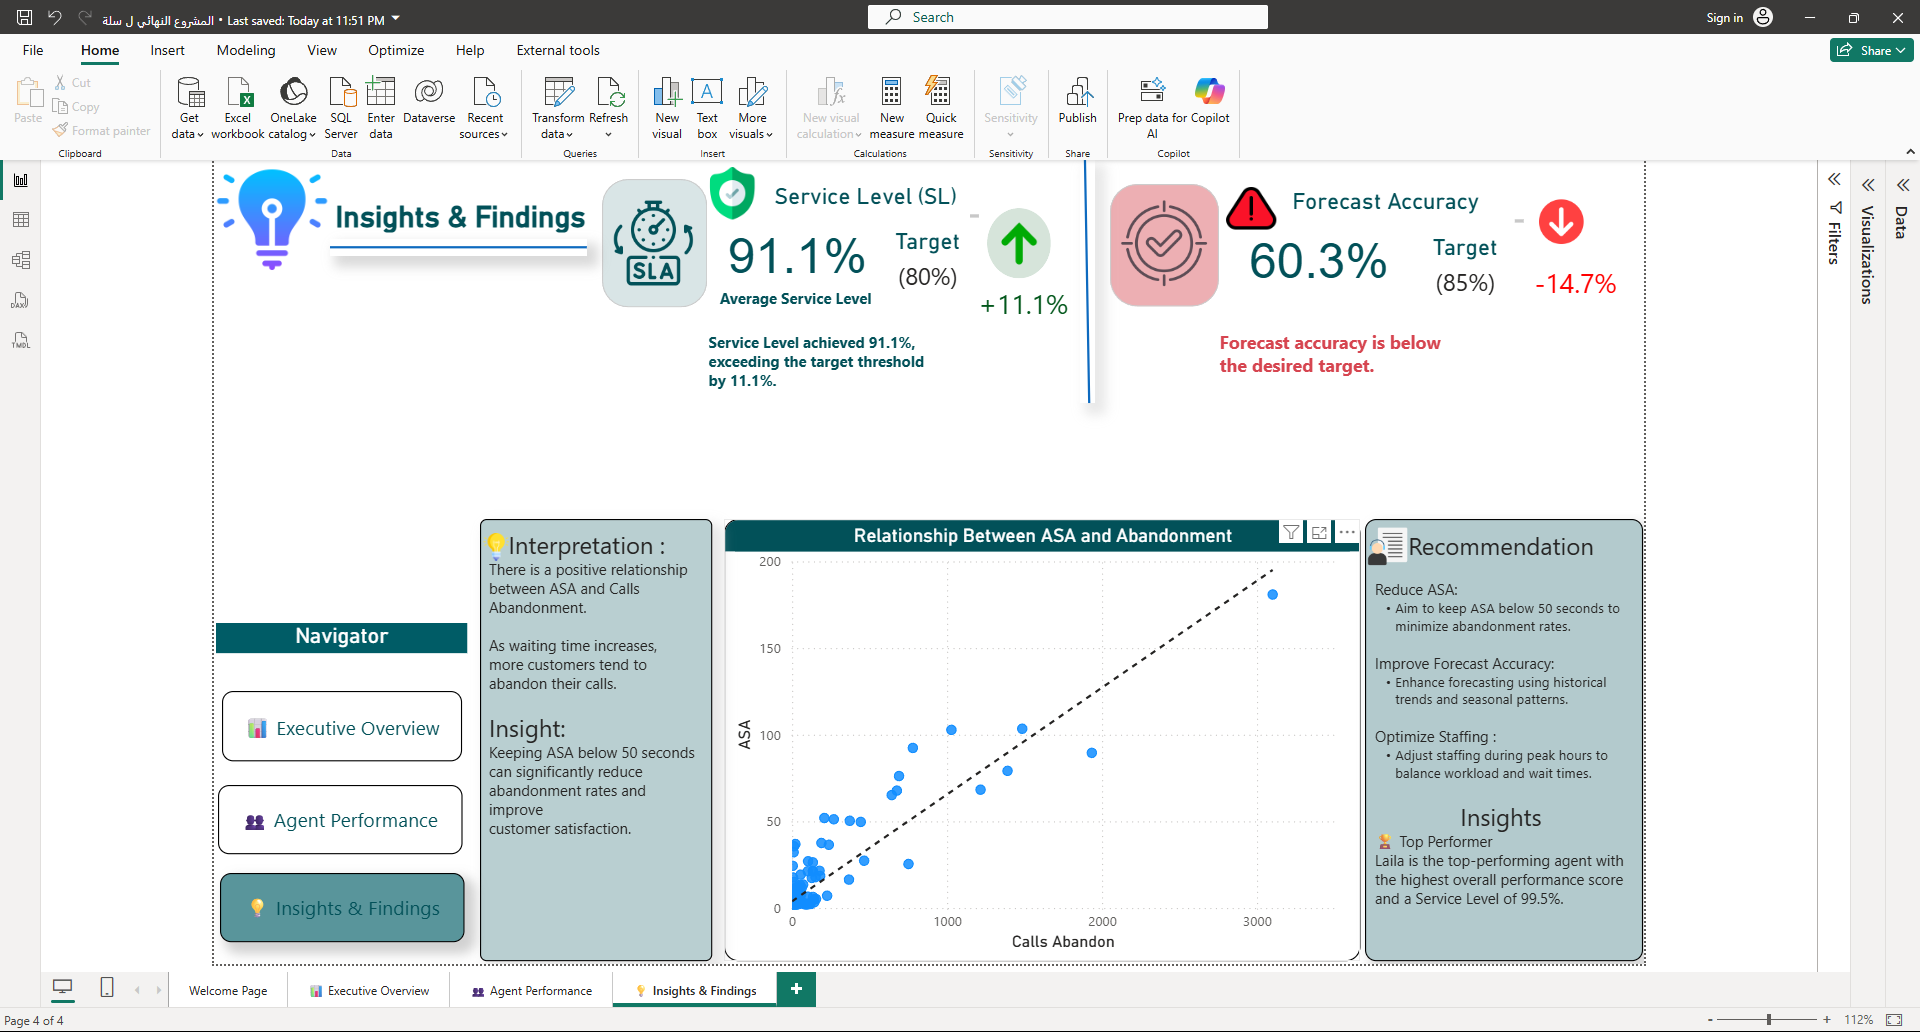

This screenshot's page, from the dashboard's own definition file:
{"tool":"powerbi","page":{"name":"💡 Insights & Findings","canvas":[1280,720],"ordinal":3},"visuals":[{"type":"image","box":[0,0,103.6,106.8],"z":0},{"type":"group","id":"g1","title":"Group 5","box":[424,6.3,351.7,145.6],"z":0,"group":"g4"},{"type":"shape","box":[347.7,17.1,94.2,114.9],"z":0,"group":"g5"},{"type":"shape","box":[802.2,21.7,97.6,109.7],"z":0,"group":"g7"},{"type":"group","id":"g2","title":"Group 6","box":[347.7,5.3,94.2,138.7],"z":1000,"group":"g4"},{"type":"group","id":"g3","title":"Group 5","box":[883.9,20.2,293.7,112.3],"z":1000,"group":"g13"},{"type":"textbox","title":" Insights & Findings","box":[103.6,34.9,267.4,34.9],"z":1000},{"type":"actionButton","title":"Navigator","box":[2.1,414.3,225.1,293.8],"z":1000,"group":"g11"},{"type":"group","id":"g4","title":"Group 7","box":[347.7,5.3,428.1,213.5],"z":2000},{"type":"image","box":[356.2,5.3,76.3,138.7],"z":2000,"group":"g2"},{"type":"image","box":[811,8.5,78.8,132.3],"z":2000,"group":"g9"},{"type":"textbox","box":[438.2,149.3,238.7,70.3],"z":2000,"group":"g4"},{"type":"shape","box":[775.8,0,12.7,217.7],"z":3000},{"type":"actionButton","box":[5.4,637.9,218.6,61.9],"z":3000,"group":"g11"},{"type":"image","box":[424,6.3,81.1,46.6],"z":4000,"group":"g1"},{"type":"image","box":[883.9,20.2,90,47.4],"z":4000,"group":"g3"},{"type":"textbox","box":[895.6,147.6,248,56.4],"z":4000,"group":"g14"},{"type":"scatterChart","title":"Relationship Between ASA and Abandonment","fields":{"X":["Sallah.Calls Abandon"],"Y":["Sallah.ASA"]},"box":[456.6,321.3,569.7,396.4],"z":4000},{"type":"group","id":"g5","title":"Group 1","box":[347.7,17.1,94.2,114.9],"z":5000,"group":"g2"},{"type":"textbox","title":"Service Level  (SL)","box":[497.2,20.4,192.9,35.7],"z":5000,"group":"g6"},{"type":"textbox","title":"Forecast Accuracy","box":[960.9,25.5,216.8,36.2],"z":5000,"group":"g8"},{"type":"textbox","box":[1030.6,321.3,249.4,396.4],"z":5000},{"type":"actionButton","box":[7.1,475,215.3,63],"z":5000,"group":"g11"},{"type":"group","id":"g6","title":"Group 4","box":[446,20.4,329.7,131.5],"z":6000,"group":"g1"},{"type":"group","id":"g7","title":"Group 1","box":[802.2,21.7,97.6,109.7],"z":6000,"group":"g10"},{"type":"group","id":"g8","title":"Group 4","box":[905.3,25.5,272.3,107],"z":6000,"group":"g3"},{"type":"textbox","title":"91.1% ","box":[446,60.7,153.4,77.7],"z":6000,"group":"g6"},{"type":"textbox","title":"60.3%","box":[905.3,65.6,168.7,56.9],"z":6000,"group":"g8"},{"type":"image","box":[1032.7,321.3,37,49.7],"z":6000},{"type":"textbox","title":"Target ","box":[599.4,60.7,80.2,65],"z":7000,"group":"g6"},{"type":"textbox","title":"Target ","box":[1075.7,66.4,90.1,66.1],"z":7000,"group":"g8"},{"type":"textbox","box":[237.8,321.7,208.2,396.4],"z":7000},{"type":"group","id":"g9","title":"Group 11","box":[802.2,8.5,472.5,195.5],"z":8000},{"type":"image","box":[679.6,50,82,48.5],"z":8000,"group":"g12"},{"type":"image","box":[1186.4,32.8,39.9,46.7],"z":9000,"group":"g13"},{"type":"shape","box":[691.9,43.2,57.4,63.1],"z":9000,"group":"g12"},{"type":"shape","box":[103.6,70.8,230.4,14.8],"z":9000},{"type":"group","id":"g10","title":"Group 10","box":[802.2,20.2,472.7,183.8],"z":10000,"group":"g9"},{"type":"textbox","box":[1177.6,88.3,97.3,45.7],"z":10000,"group":"g13"},{"type":"textbox","box":[679.6,106.3,96.1,45.6],"z":10000,"group":"g6"},{"type":"group","id":"g11","title":"Group 2","box":[2.1,414.3,225.1,293.8],"z":10000},{"type":"image","box":[237.8,334,29.6,25.4],"z":11000},{"type":"group","id":"g12","title":"Group 3","box":[679.6,43.2,82,63.1],"z":11001,"group":"g6"},{"type":"group","id":"g13","title":"Group 8","box":[883.9,20.2,391,113.8],"z":12003,"group":"g14"},{"type":"group","id":"g14","title":"Group 9","box":[883.9,20.2,391,183.8],"z":12004,"group":"g10"},{"type":"actionButton","box":[4.3,559.2,218.6,61.9],"z":18000,"group":"g11"}]}

Visuals, with their boxes on the page's 1280x720 design canvas (x1, y1, x2, y2). These are canvas units, not pixel positions in the 1920x1032 screenshot, which may show the page scaled, cropped or inside an application window:
image: <region>0, 0, 104, 107</region>
"Group 5" group: <region>424, 6, 776, 152</region>
shape: <region>348, 17, 442, 132</region>
shape: <region>802, 22, 900, 131</region>
"Group 6" group: <region>348, 5, 442, 144</region>
"Group 5" group: <region>884, 20, 1178, 132</region>
" Insights & Findings" textbox: <region>104, 35, 371, 70</region>
"Navigator" actionButton: <region>2, 414, 227, 708</region>
"Group 7" group: <region>348, 5, 776, 219</region>
image: <region>356, 5, 432, 144</region>
image: <region>811, 8, 890, 141</region>
textbox: <region>438, 149, 677, 220</region>
shape: <region>776, 0, 788, 218</region>
actionButton: <region>5, 638, 224, 700</region>
image: <region>424, 6, 505, 53</region>
image: <region>884, 20, 974, 68</region>
textbox: <region>896, 148, 1144, 204</region>
"Relationship Between ASA and Abandonment" scatterChart: <region>457, 321, 1026, 718</region>
"Group 1" group: <region>348, 17, 442, 132</region>
"Service Level  (SL)" textbox: <region>497, 20, 690, 56</region>
"Forecast Accuracy" textbox: <region>961, 26, 1178, 62</region>
textbox: <region>1031, 321, 1280, 718</region>
actionButton: <region>7, 475, 222, 538</region>
"Group 4" group: <region>446, 20, 776, 152</region>
"Group 1" group: <region>802, 22, 900, 131</region>
"Group 4" group: <region>905, 26, 1178, 132</region>
"91.1% " textbox: <region>446, 61, 599, 138</region>
"60.3%" textbox: <region>905, 66, 1074, 122</region>
image: <region>1033, 321, 1070, 371</region>
"Target " textbox: <region>599, 61, 680, 126</region>
"Target " textbox: <region>1076, 66, 1166, 132</region>
textbox: <region>238, 322, 446, 718</region>
"Group 11" group: <region>802, 8, 1275, 204</region>
image: <region>680, 50, 762, 98</region>
image: <region>1186, 33, 1226, 80</region>
shape: <region>692, 43, 749, 106</region>
shape: <region>104, 71, 334, 86</region>
"Group 10" group: <region>802, 20, 1275, 204</region>
textbox: <region>1178, 88, 1275, 134</region>
textbox: <region>680, 106, 776, 152</region>
"Group 2" group: <region>2, 414, 227, 708</region>
image: <region>238, 334, 267, 359</region>
"Group 3" group: <region>680, 43, 762, 106</region>
"Group 8" group: <region>884, 20, 1275, 134</region>
"Group 9" group: <region>884, 20, 1275, 204</region>
actionButton: <region>4, 559, 223, 621</region>
